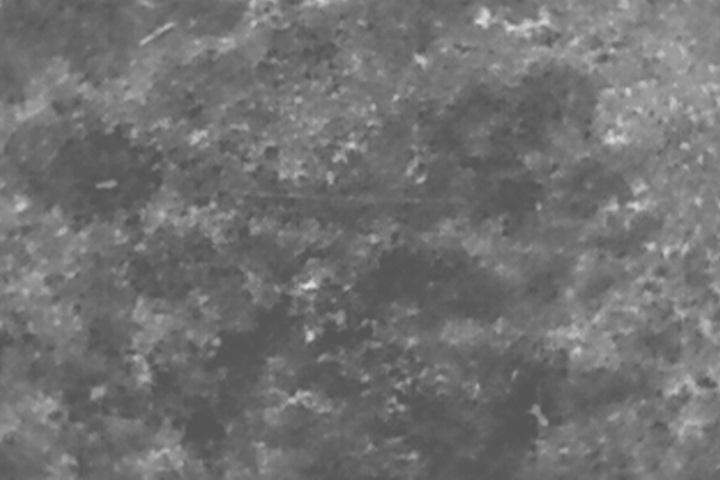landmine: (301, 278, 319, 292)
